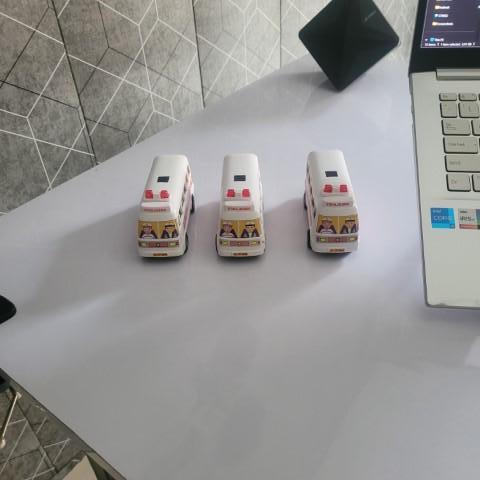ambulance: (300, 147, 362, 260), (141, 149, 198, 260), (216, 149, 272, 258)
